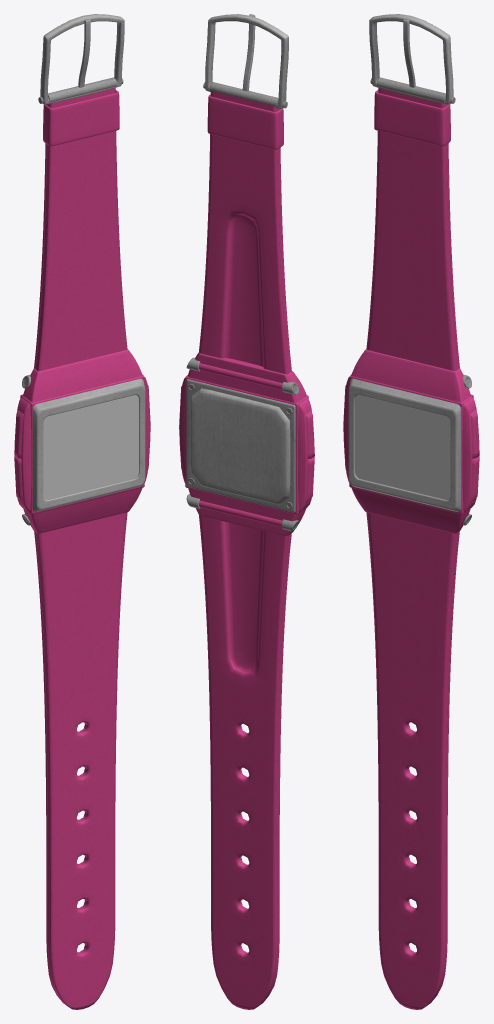
The model's file is smartwatch.glb.
3 views of the same model, side by side, from view 1: azimuth 30°, elevation 25°; view 2: azimuth 150°, elevation 25°; view 3: azimuth 330°, elevation 25° (orthographic).
Visible parts, largest first — view 1: Ruber_mat, 07___Default, Metal_mat; view 2: Ruber_mat, Metal_mat; view 3: Ruber_mat, 07___Default, Metal_mat.
Part boxes in pixels (left/top/right/bottom): Ruber_mat: left=14, top=88, right=150, bottom=1009; 07___Default: left=43, top=395, right=138, bottom=499; Metal_mat: left=22, top=14, right=145, bottom=525; Ruber_mat: left=179, top=91, right=314, bottom=1009; Metal_mat: left=186, top=14, right=299, bottom=531; Ruber_mat: left=343, top=88, right=479, bottom=1009; 07___Default: left=355, top=395, right=450, bottom=499; Metal_mat: left=348, top=14, right=471, bottom=525.
Size of the model in its own units: 1.32 by 9.44 by 0.3042.
Materials: 4 (3 with a texture image).
